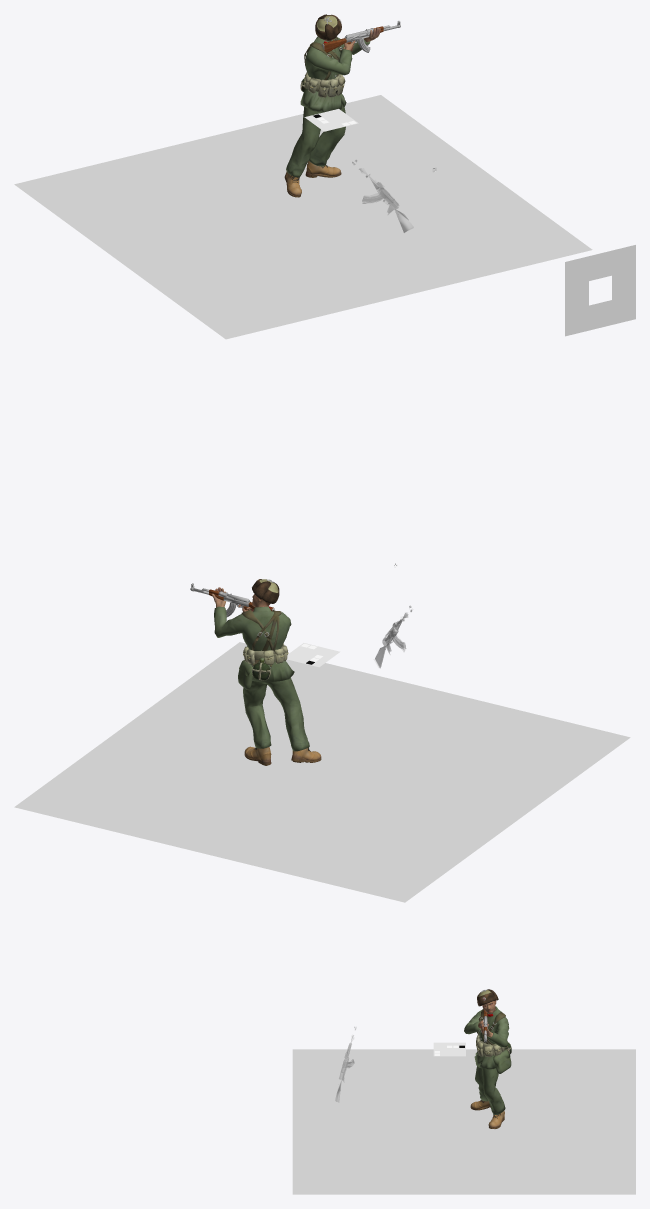
3 renders of one model, top to bottom at view 1: azimuth 30°, elevation 25°; view 2: azimuth 150°, elevation 25°; view 3: azimuth 270°, elevation 25°, orthographic. The views are drawn at different scales.
Visible parts, largest first — view 1: 平面.001, Border.003, UMesh_PM3D_Sphere3D2_3, Trousers, GR_AK47_1ST, Materials.0003, Pouches, Hat; view 2: 平面.001, Trousers, UMesh_PM3D_Sphere3D2_3, Materials.0003; view 3: 平面.001, UMesh_PM3D_Sphere3D2_3, Trousers, Materials.0003.
Boxes of the visible parts, x1=… form: 平面.001: x1=14, y1=95, x2=592, y2=339; Border.003: x1=565, y1=245, x2=635, y2=336; UMesh_PM3D_Sphere3D2_3: x1=300, y1=36, x2=370, y2=111; Trousers: x1=286, y1=107, x2=345, y2=177; GR_AK47_1ST: x1=352, y1=160, x2=413, y2=232; Materials.0003: x1=304, y1=109, x2=358, y2=131; Pouches: x1=304, y1=72, x2=345, y2=97; Hat: x1=315, y1=14, x2=341, y2=40; 平面.001: x1=14, y1=642, x2=630, y2=902; Trousers: x1=243, y1=677, x2=309, y2=751; UMesh_PM3D_Sphere3D2_3: x1=214, y1=606, x2=294, y2=682; Materials.0003: x1=287, y1=643, x2=340, y2=667; 平面.001: x1=292, y1=1049, x2=635, y2=1194; UMesh_PM3D_Sphere3D2_3: x1=464, y1=1006, x2=509, y2=1069; Trousers: x1=475, y1=1066, x2=505, y2=1114; Materials.0003: x1=433, y1=1042, x2=465, y2=1056.
Size of the model in its own units: 22.07 by 10.51 by 39.97.
77 materials, 17 textured.
